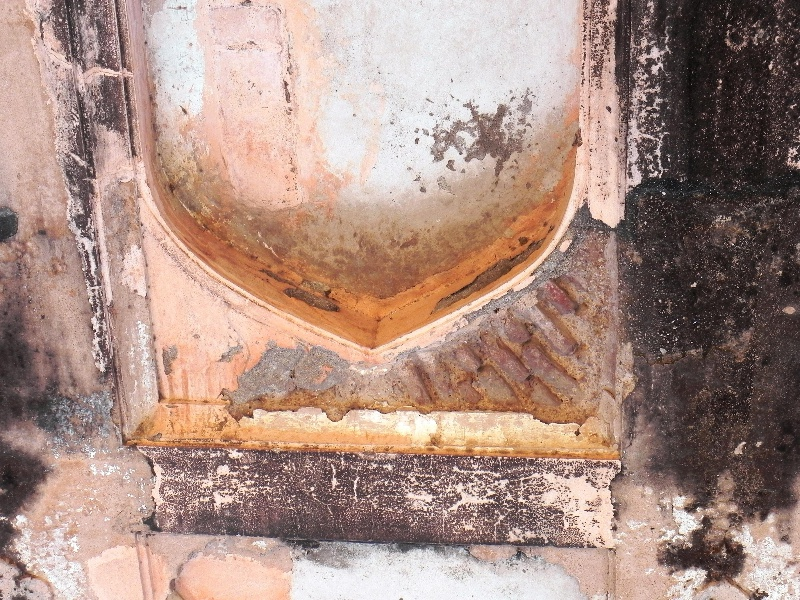Spalling: (387, 250, 617, 431)
